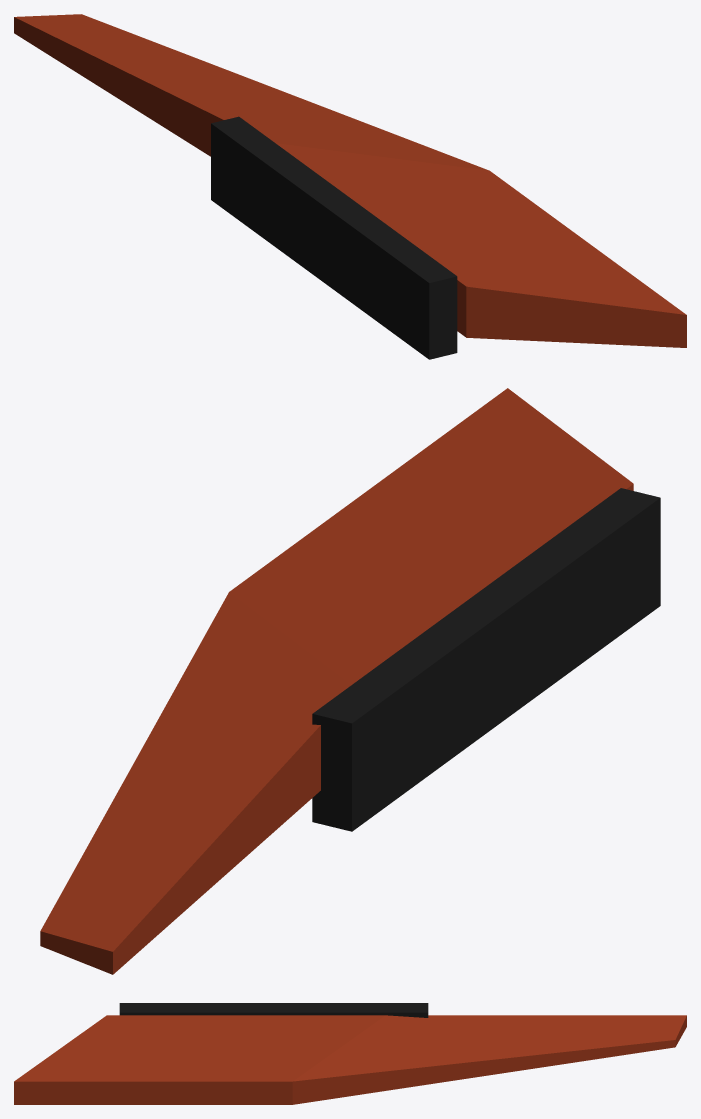
File: czesc_1.fbx
The picture shows the model from 3 angles, top to bottom: view 1: azimuth 30°, elevation 25°; view 2: azimuth 150°, elevation 25°; view 3: azimuth 270°, elevation 25°; orthographic projection. The views are drawn at different scales.
Parts seen in each view (by area): view 1: Cube.000; view 2: Cube.000; view 3: Cube.000.
Part boxes in pixels (x1,y1,x2,y2): Cube.000: [14, 14, 686, 359]; Cube.000: [40, 388, 660, 974]; Cube.000: [14, 1003, 686, 1104].
Bounding box in the file's own units: 129 × 48 × 541.
